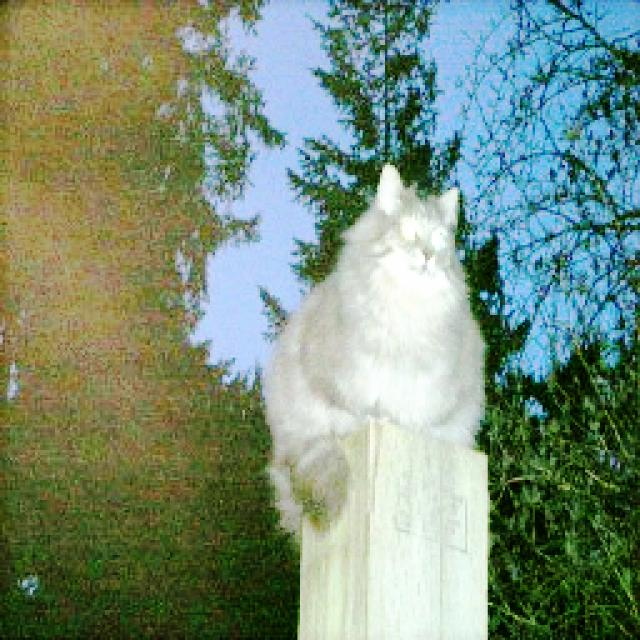cat: (264, 164, 496, 538)
